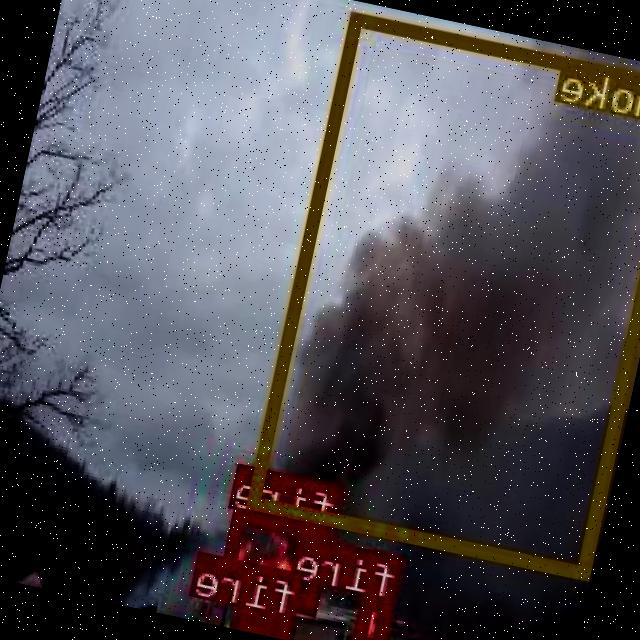fire: (220, 508, 336, 612), (355, 594, 397, 640), (241, 606, 296, 636)
smoke: (249, 9, 640, 578)
